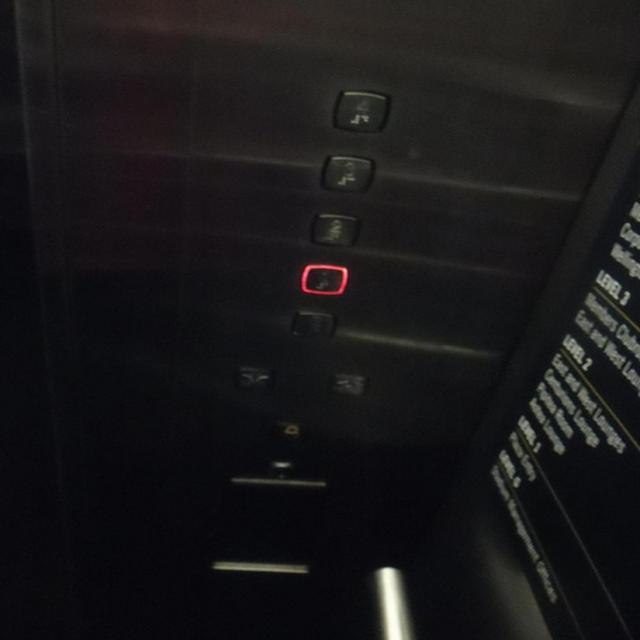2: (311, 213, 357, 246)
3: (321, 154, 373, 192)
4: (332, 90, 388, 134)
alarm: (273, 418, 306, 441)
blur: (300, 264, 348, 294), (290, 310, 335, 340), (330, 372, 368, 398)
close: (234, 366, 273, 392)
